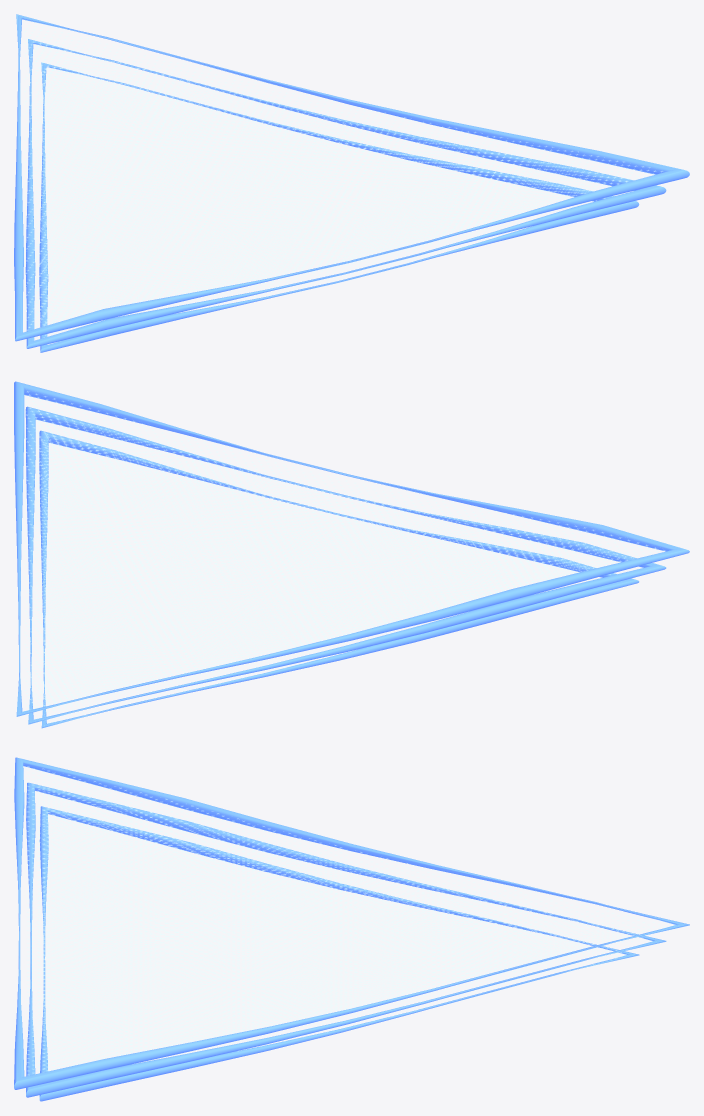
Rendered from triangular_portal.glb.
3 views of the same model, one above another, from view 1: azimuth 30°, elevation 25°; view 2: azimuth 150°, elevation 25°; view 3: azimuth 270°, elevation 25° (orthographic).
Visible parts, largest first — view 1: Portal; view 2: Portal; view 3: Portal.
Boxes of the visible parts, bbox=[...] form: Portal: bbox=[14, 14, 689, 352]; Portal: bbox=[14, 381, 689, 728]; Portal: bbox=[14, 757, 689, 1101].
Bounding box in the file's own units: 3.45 × 0.2246 × 2.97.
Materials: 2 (1 with a texture image).
